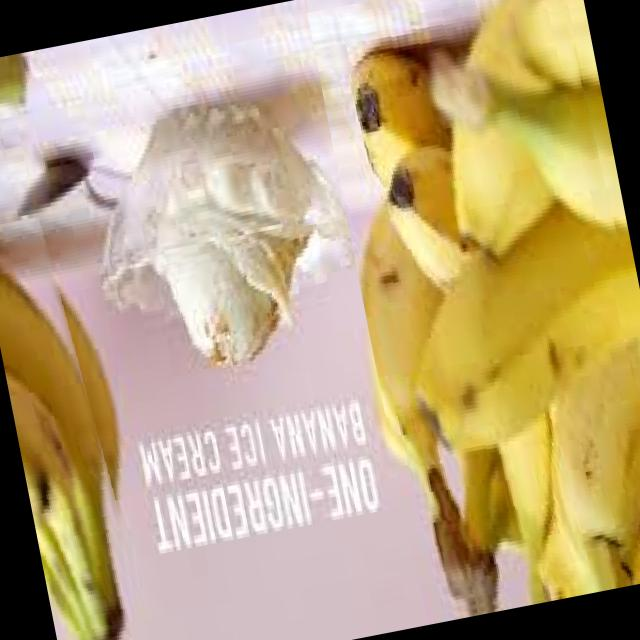Organic: (306, 0, 640, 625), (0, 209, 163, 640), (146, 222, 340, 379)
